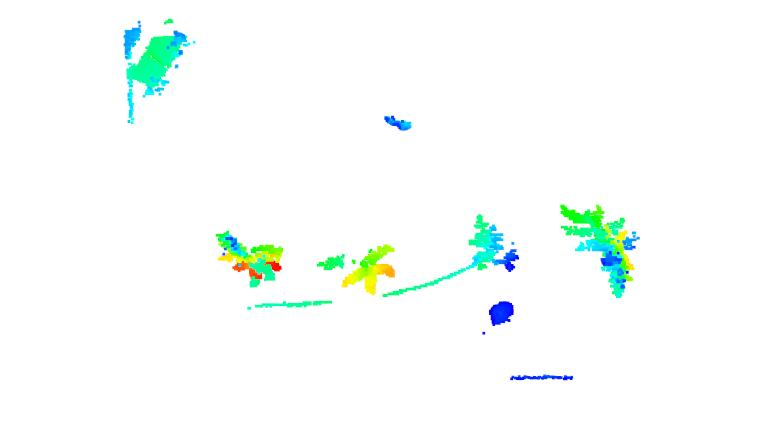chickpea: (559, 202, 646, 300), (315, 245, 402, 295), (215, 230, 283, 286), (464, 214, 524, 272)
